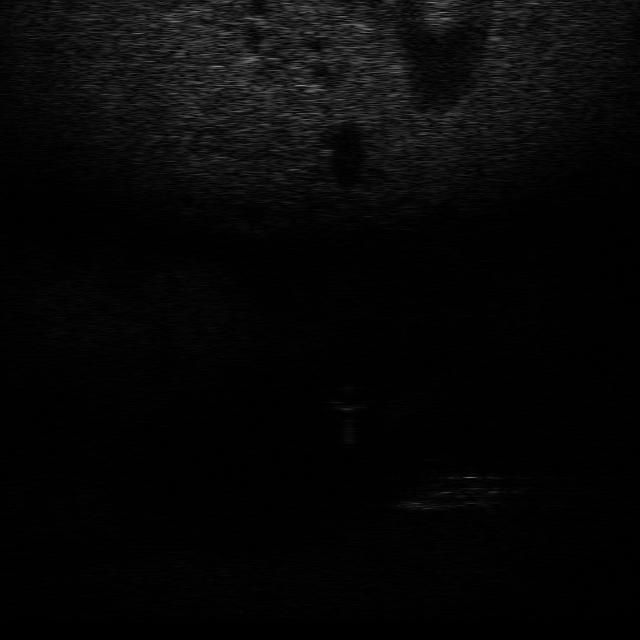ball: (325, 384, 373, 413)
tyre: (399, 469, 501, 513)
